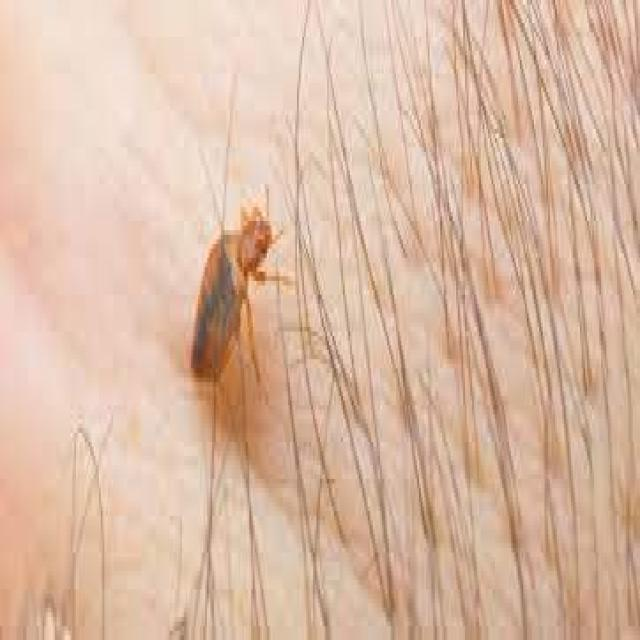sinek: (189, 184, 313, 431)
